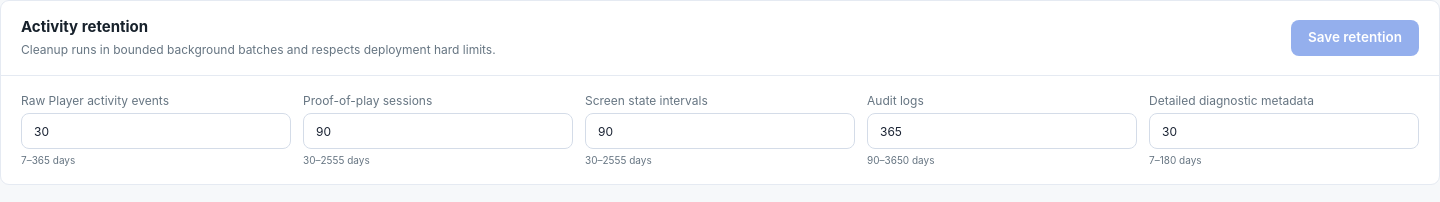
Test case: ActivityRetentionPanel › treats an emptied field as incomplete rather than as zero
Clear the number field labelled "Audit logs 90–3650 days" at (1002, 131), box [867,113,1137,149]
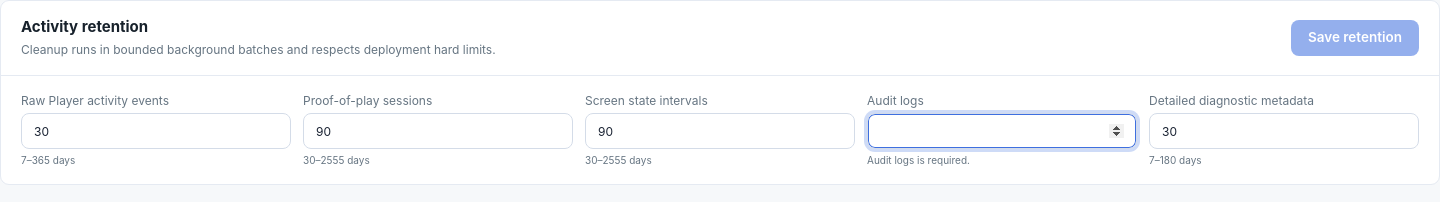
Expected: the button "Save retention" is disabled, [1291,20,1419,56]
Result: the text "Audit logs is required." is shown at [867,154,970,166]
